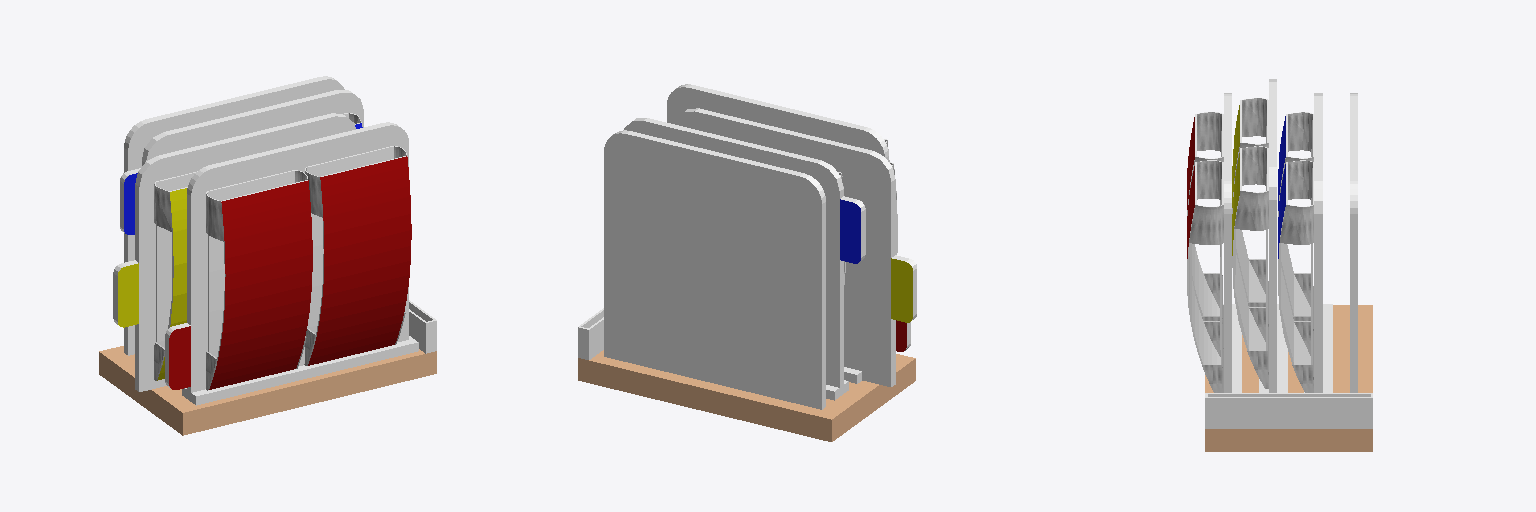
The picture shows the model from 3 angles: view 1: azimuth 30°, elevation 25°; view 2: azimuth 150°, elevation 25°; view 3: azimuth 270°, elevation 25°; orthographic projection.
Parts seen in each view (by area): view 1: Solid1:1, Solid1, Solid1:2, Solid1:3; view 2: Solid1, Solid1:2, Solid1:3, Solid1:1; view 3: Solid1, Solid1:2, Solid1:3, Solid1:1.
Boxes of the visible parts, x1=… form: Solid1:1: x1=165, y1=122, x2=411, y2=401; Solid1: x1=99, y1=76, x2=436, y2=435; Solid1:2: x1=113, y1=113, x2=355, y2=391; Solid1:3: x1=120, y1=90, x2=363, y2=234; Solid1: x1=578, y1=130, x2=915, y2=441; Solid1:2: x1=675, y1=108, x2=916, y2=386; Solid1:3: x1=624, y1=118, x2=865, y2=395; Solid1:1: x1=667, y1=84, x2=910, y2=351; Solid1: x1=1205, y1=93, x2=1372, y2=451; Solid1:2: x1=1232, y1=79, x2=1276, y2=392; Solid1:3: x1=1278, y1=93, x2=1322, y2=392; Solid1:1: x1=1187, y1=93, x2=1231, y2=392.
Size of the model in its own units: 198 by 165 by 111.
8 materials, 1 textured.